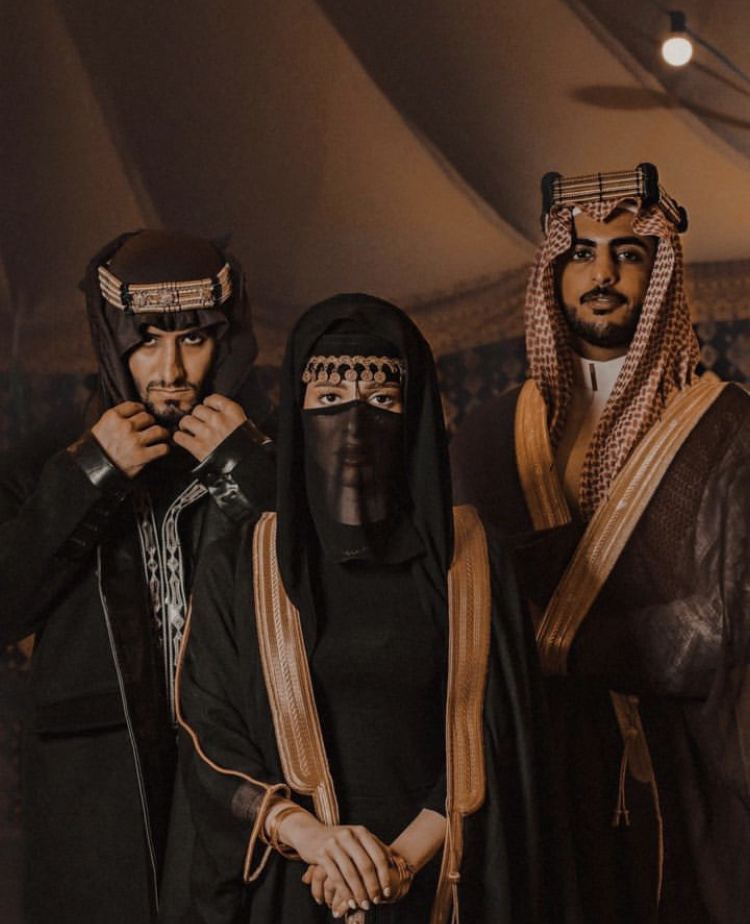Saudi_Founding_Day: (173, 292, 557, 924), (446, 161, 750, 924), (1, 229, 276, 924)
